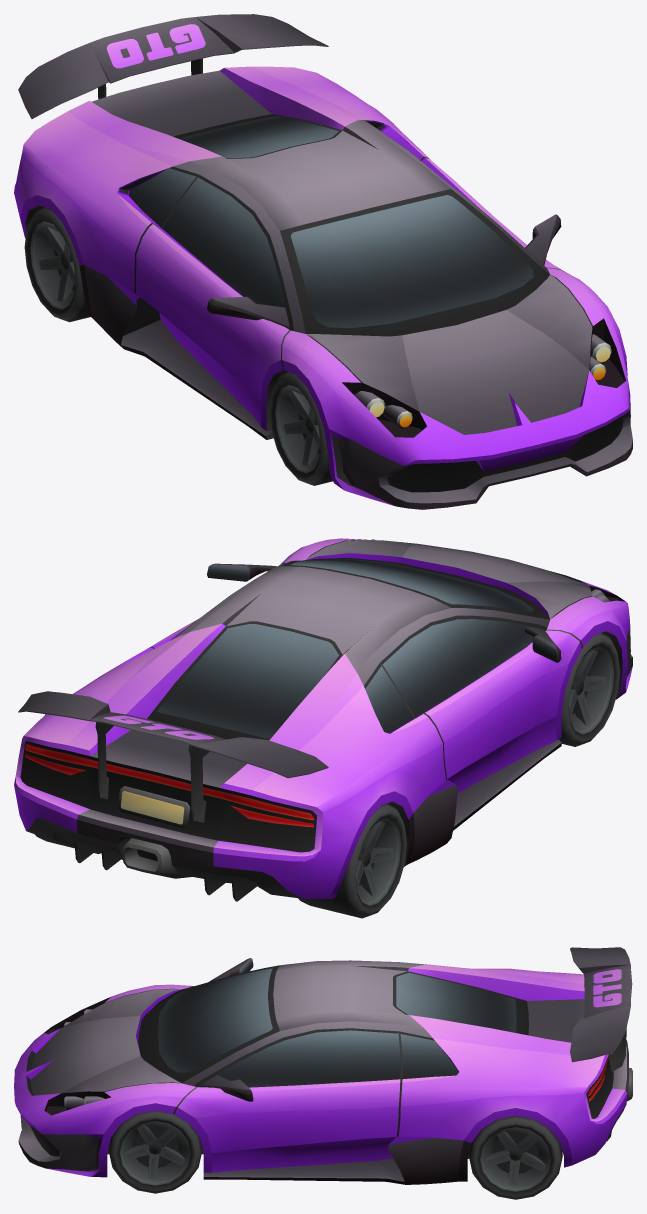
Rendered from Car_22B.fbx.
3 views of the same model, one above another, from view 1: azimuth 30°, elevation 25°; view 2: azimuth 150°, elevation 25°; view 3: azimuth 270°, elevation 25° (orthographic). The views are drawn at different scales.
Visible parts, largest first — view 1: Car_22B, Wheel_22B_R.R, Wheel_22B_F.R; view 2: Car_22B, Wheel_22B_R.R, Wheel_22B_F.R; view 3: Car_22B, Wheel_22B_R.L, Wheel_22B_F.L.
Part boxes in pixels (left/top/right/bottom): Car_22B: left=14, top=14, right=632, bottom=509; Wheel_22B_R.R: left=24, top=207, right=90, bottom=322; Wheel_22B_F.R: left=269, top=371, right=332, bottom=485; Car_22B: left=14, top=538, right=632, bottom=901; Wheel_22B_R.R: left=298, top=803, right=406, bottom=918; Wheel_22B_F.R: left=558, top=632, right=619, bottom=746; Car_22B: left=14, top=947, right=632, bottom=1184; Wheel_22B_R.L: left=469, top=1115, right=562, bottom=1199; Wheel_22B_F.L: left=108, top=1110, right=202, bottom=1193.
Bounding box in the file's own units: 290 × 156 × 561.
